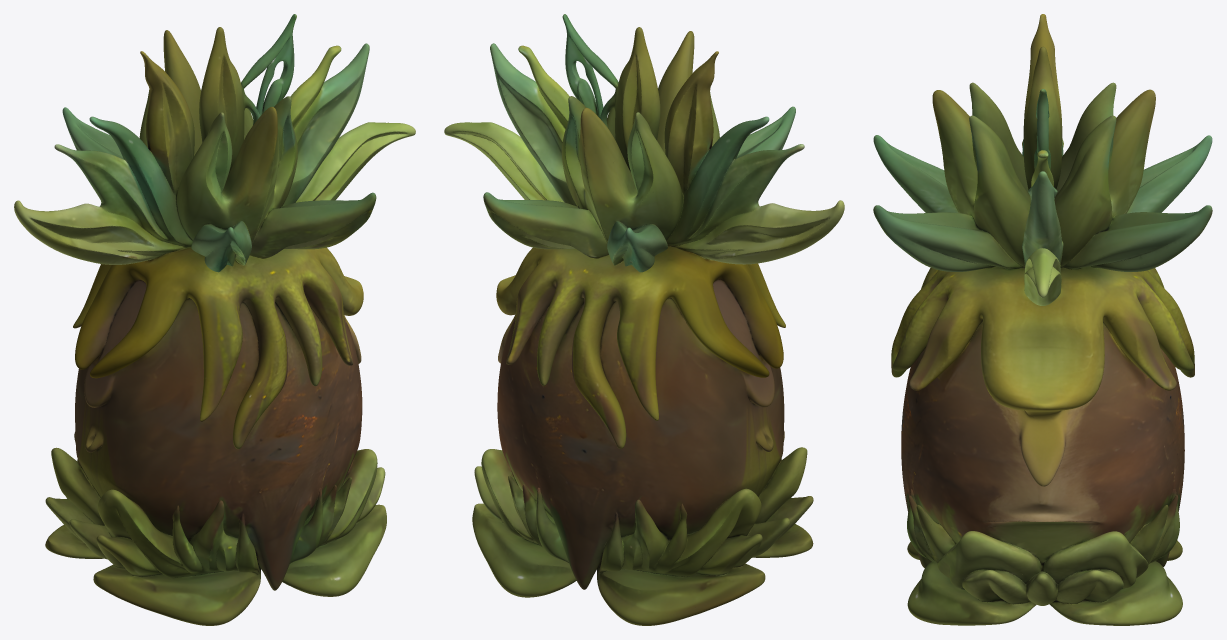
File: Frailejon.fbx
The picture shows the model from 3 angles, left to right: view 1: azimuth 30°, elevation 25°; view 2: azimuth 150°, elevation 25°; view 3: azimuth 270°, elevation 25°; orthographic projection.
Visible parts, largest first — view 1: model; view 2: model; view 3: model.
Boxes of the visible parts, box(x1,y1,x2,y2) form: model: box(14, 14, 415, 625); model: box(444, 14, 844, 625); model: box(873, 14, 1212, 625).
Size of the model in its own units: 142 by 182 by 104.
